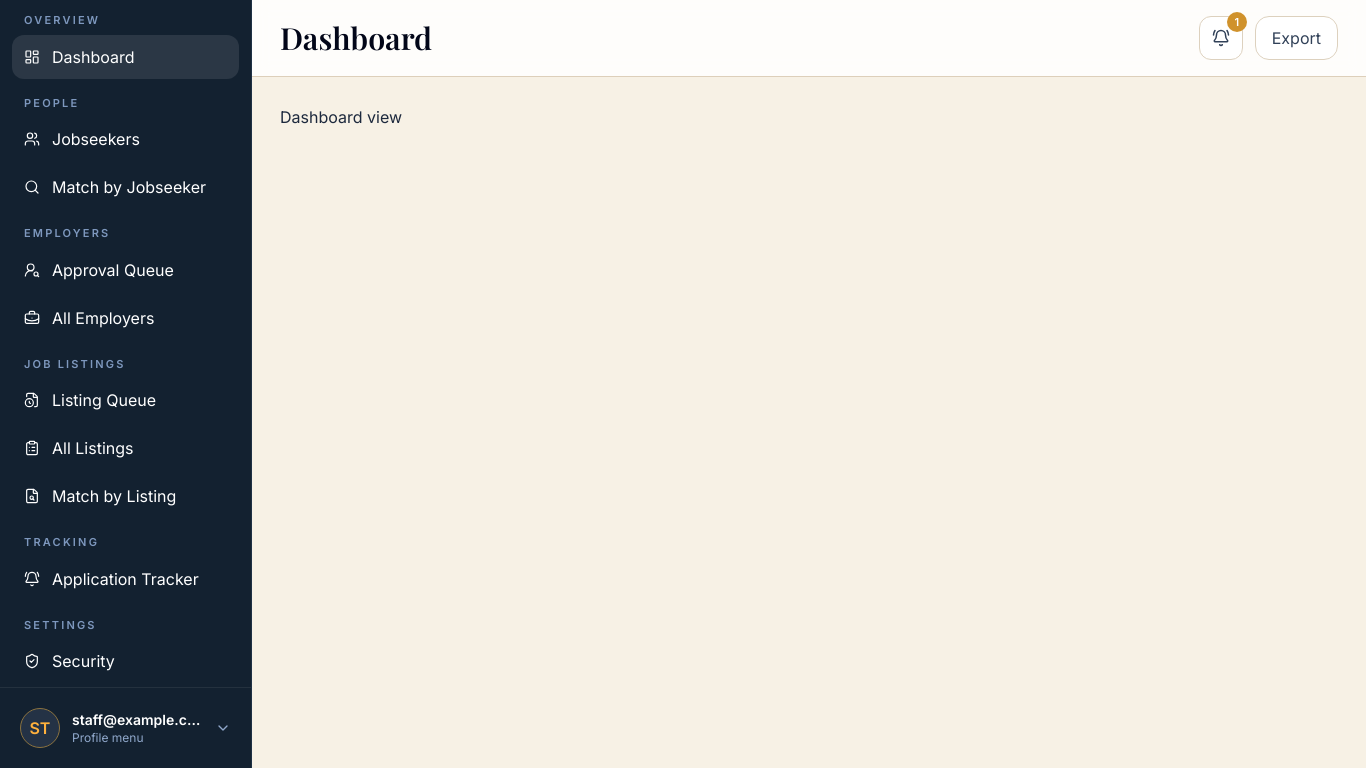
Test case: bell notifications mark themselves read when clicked and navigate to their source route
Expected: the text "Dashboard view" is shown, [280,107,402,127]
Click the button named "notifications" at (1221, 38), box [1199,16,1243,60]
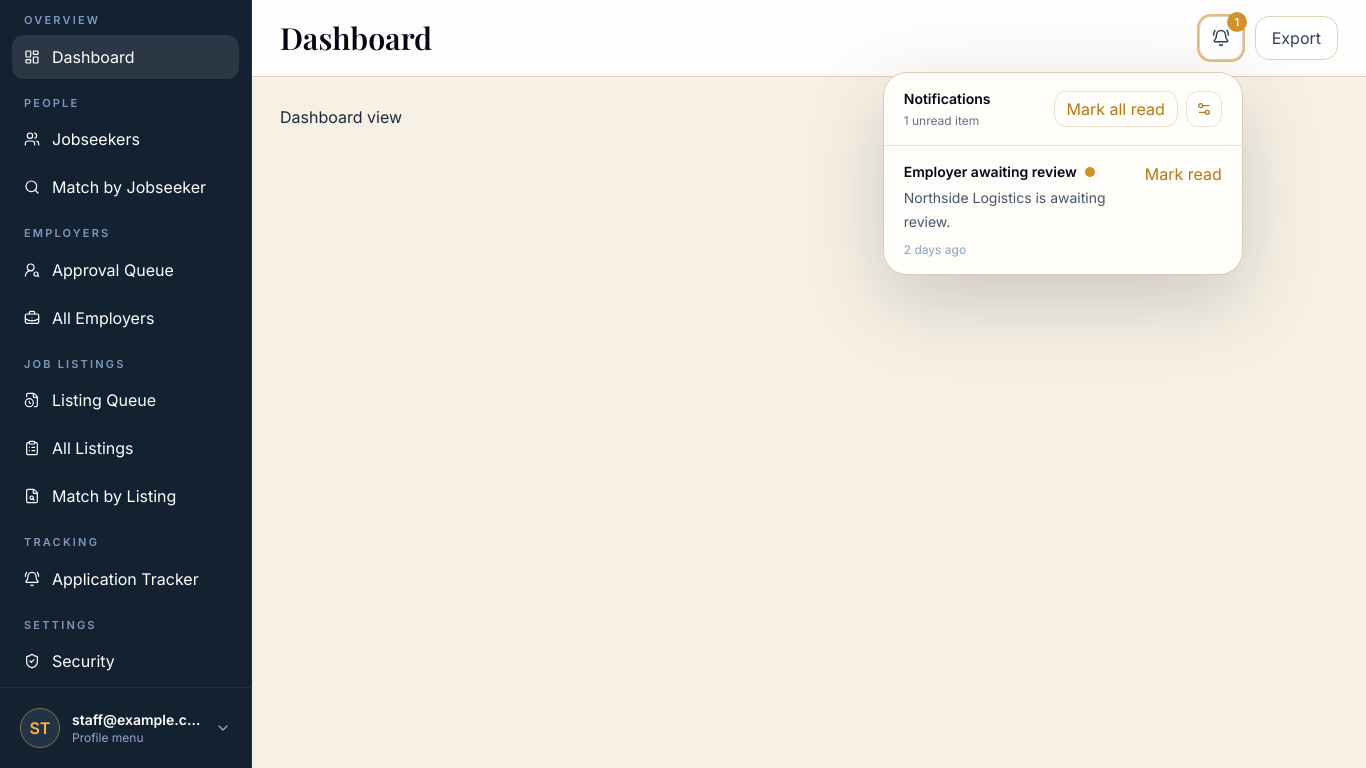
Click the button with aria-label "open notification employer awaiting review" at (1018, 210), box [904,162,1133,258]
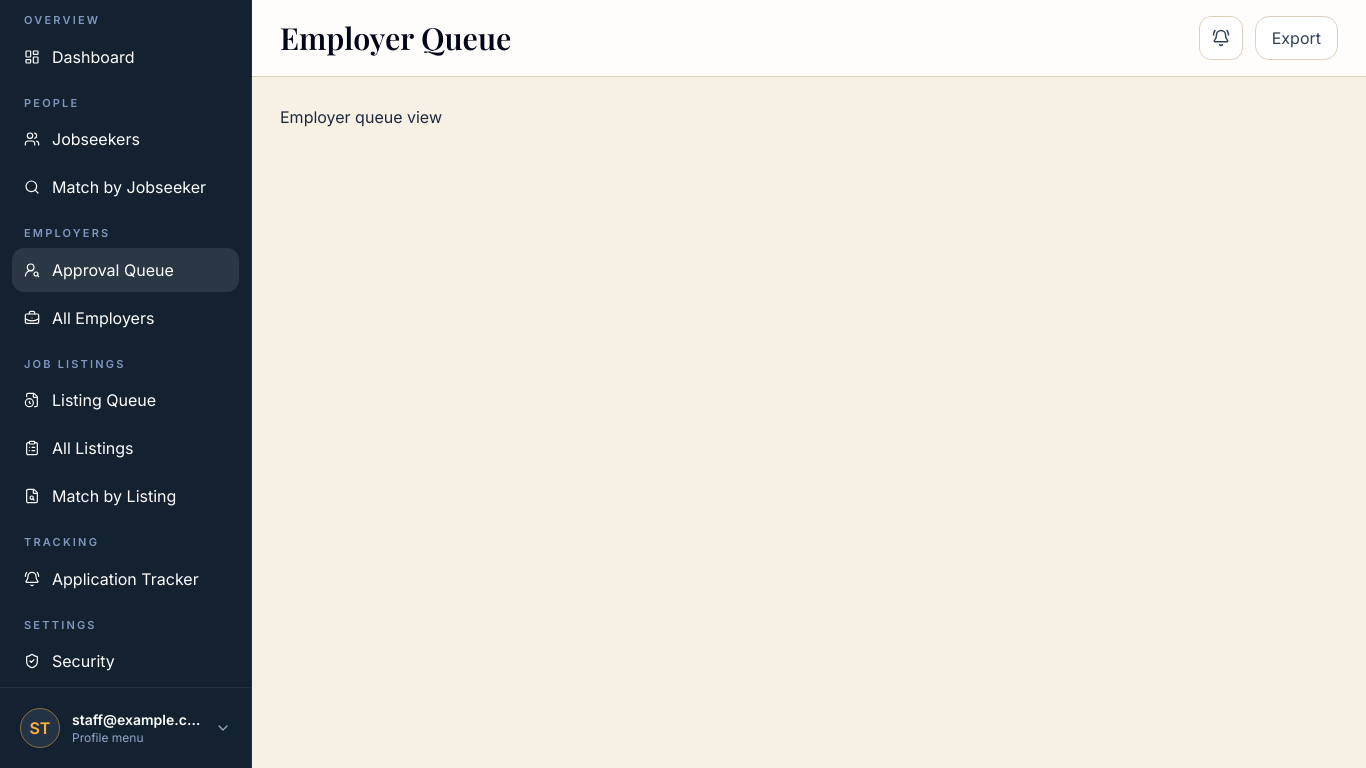
Result: the text "Employer queue view" is shown at [280,107,442,127]
Result: the text "1 unread item" is gone
